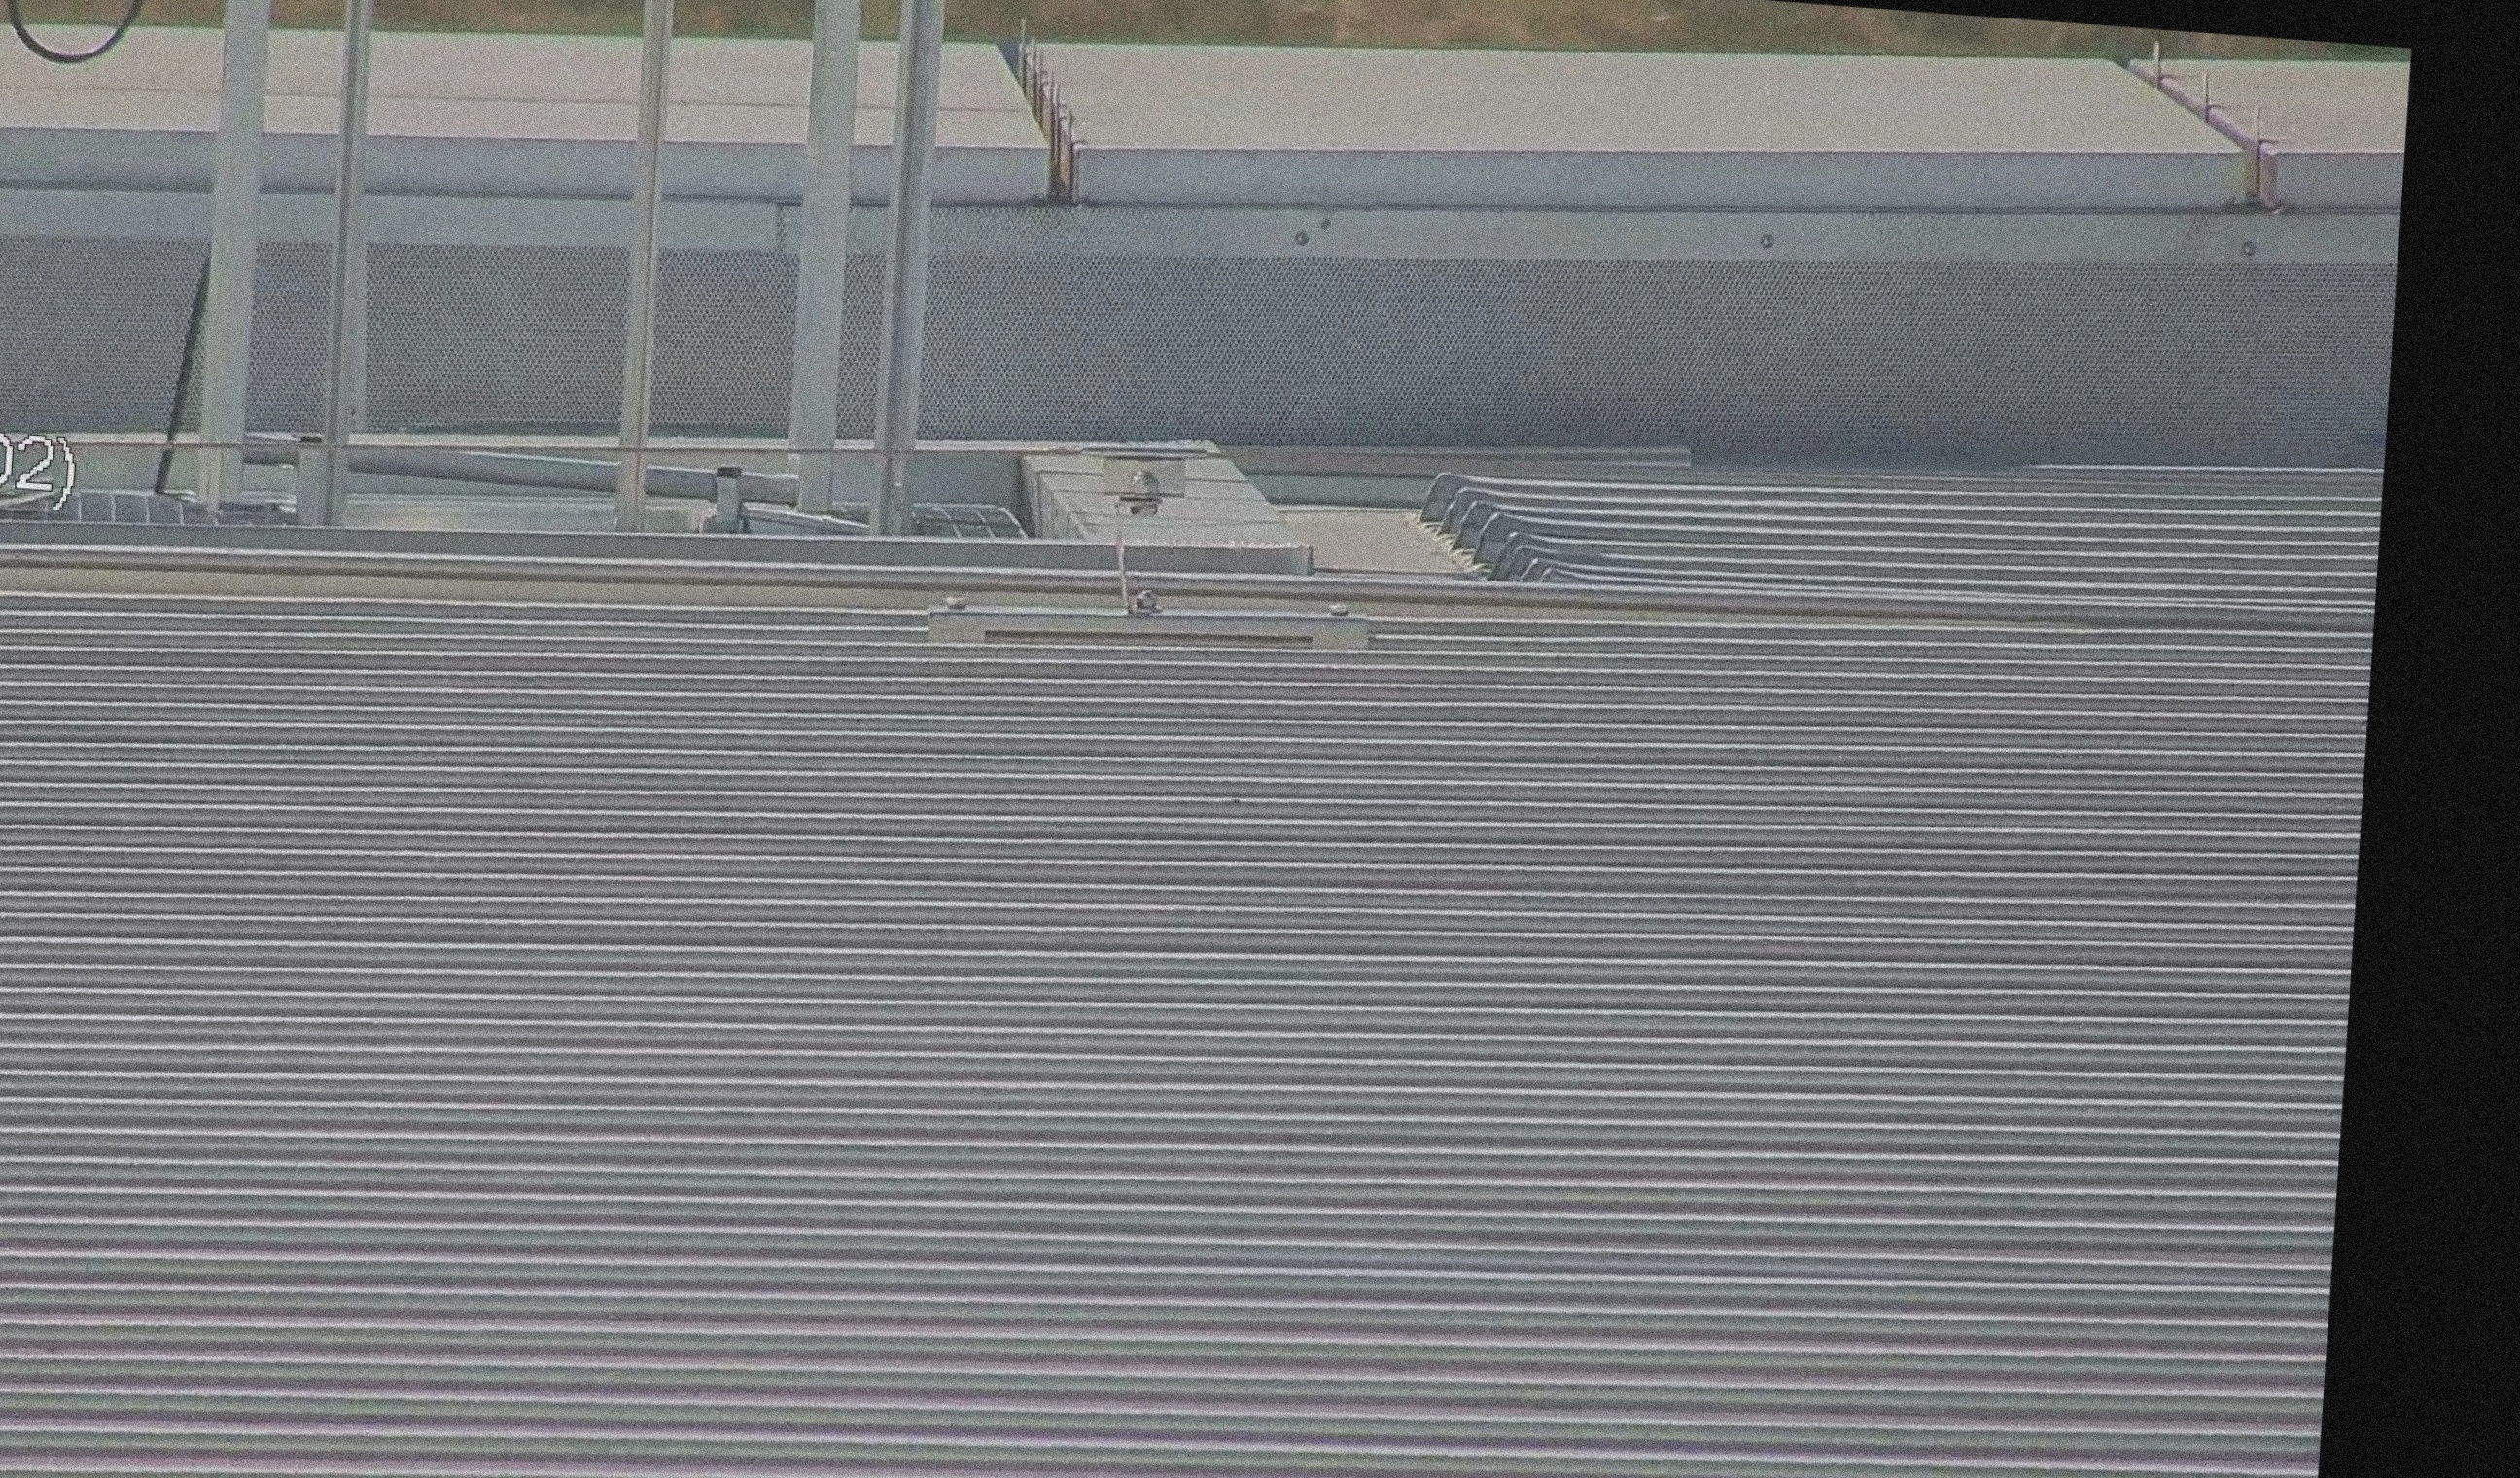Other: (0, 0, 243, 67)
